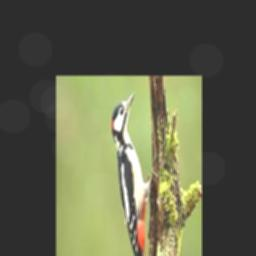Woodpecker: (112, 91, 160, 256)
